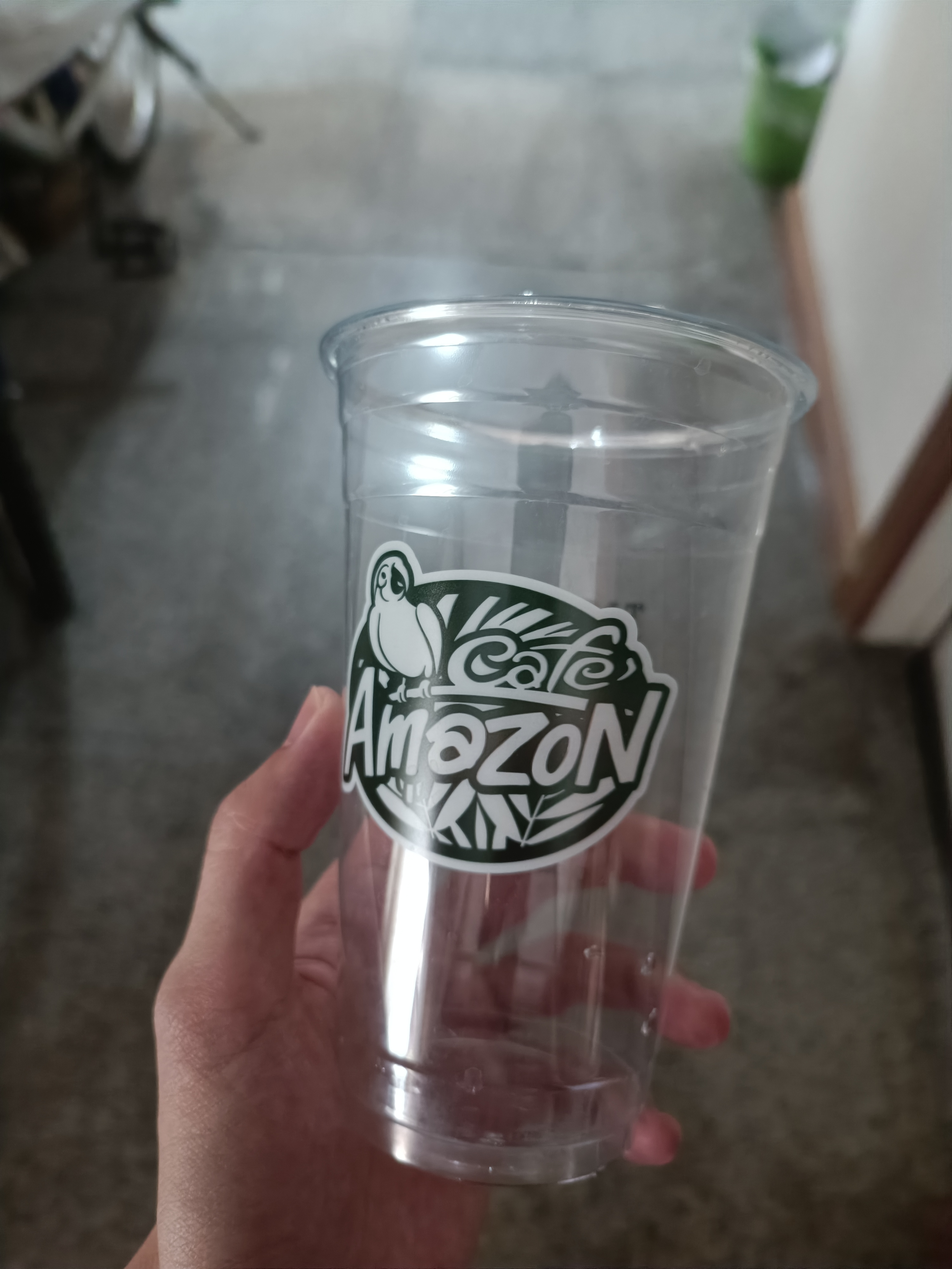plastic: (274, 273, 839, 1198)
